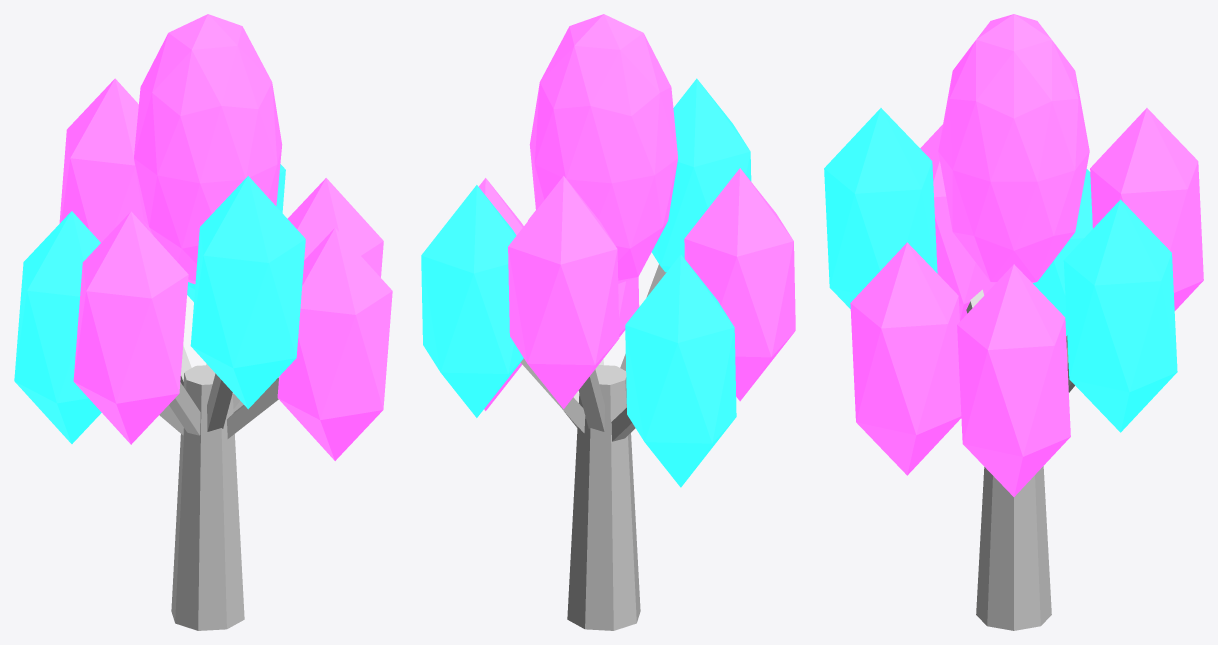
3 views of the same model, side by side, from view 1: azimuth 30°, elevation 25°; view 2: azimuth 150°, elevation 25°; view 3: azimuth 270°, elevation 25° (orthographic).
Parts seen in each view (by area): view 1: Neon_HoloTree_Standard; view 2: Neon_HoloTree_Standard; view 3: Neon_HoloTree_Standard.
Boxes of the visible parts, <box> form: Neon_HoloTree_Standard: <box>14,14,392,630</box>; Neon_HoloTree_Standard: <box>421,14,795,630</box>; Neon_HoloTree_Standard: <box>824,14,1203,630</box>.
Size of the model in its own units: 1.97 by 3.5 by 2.
